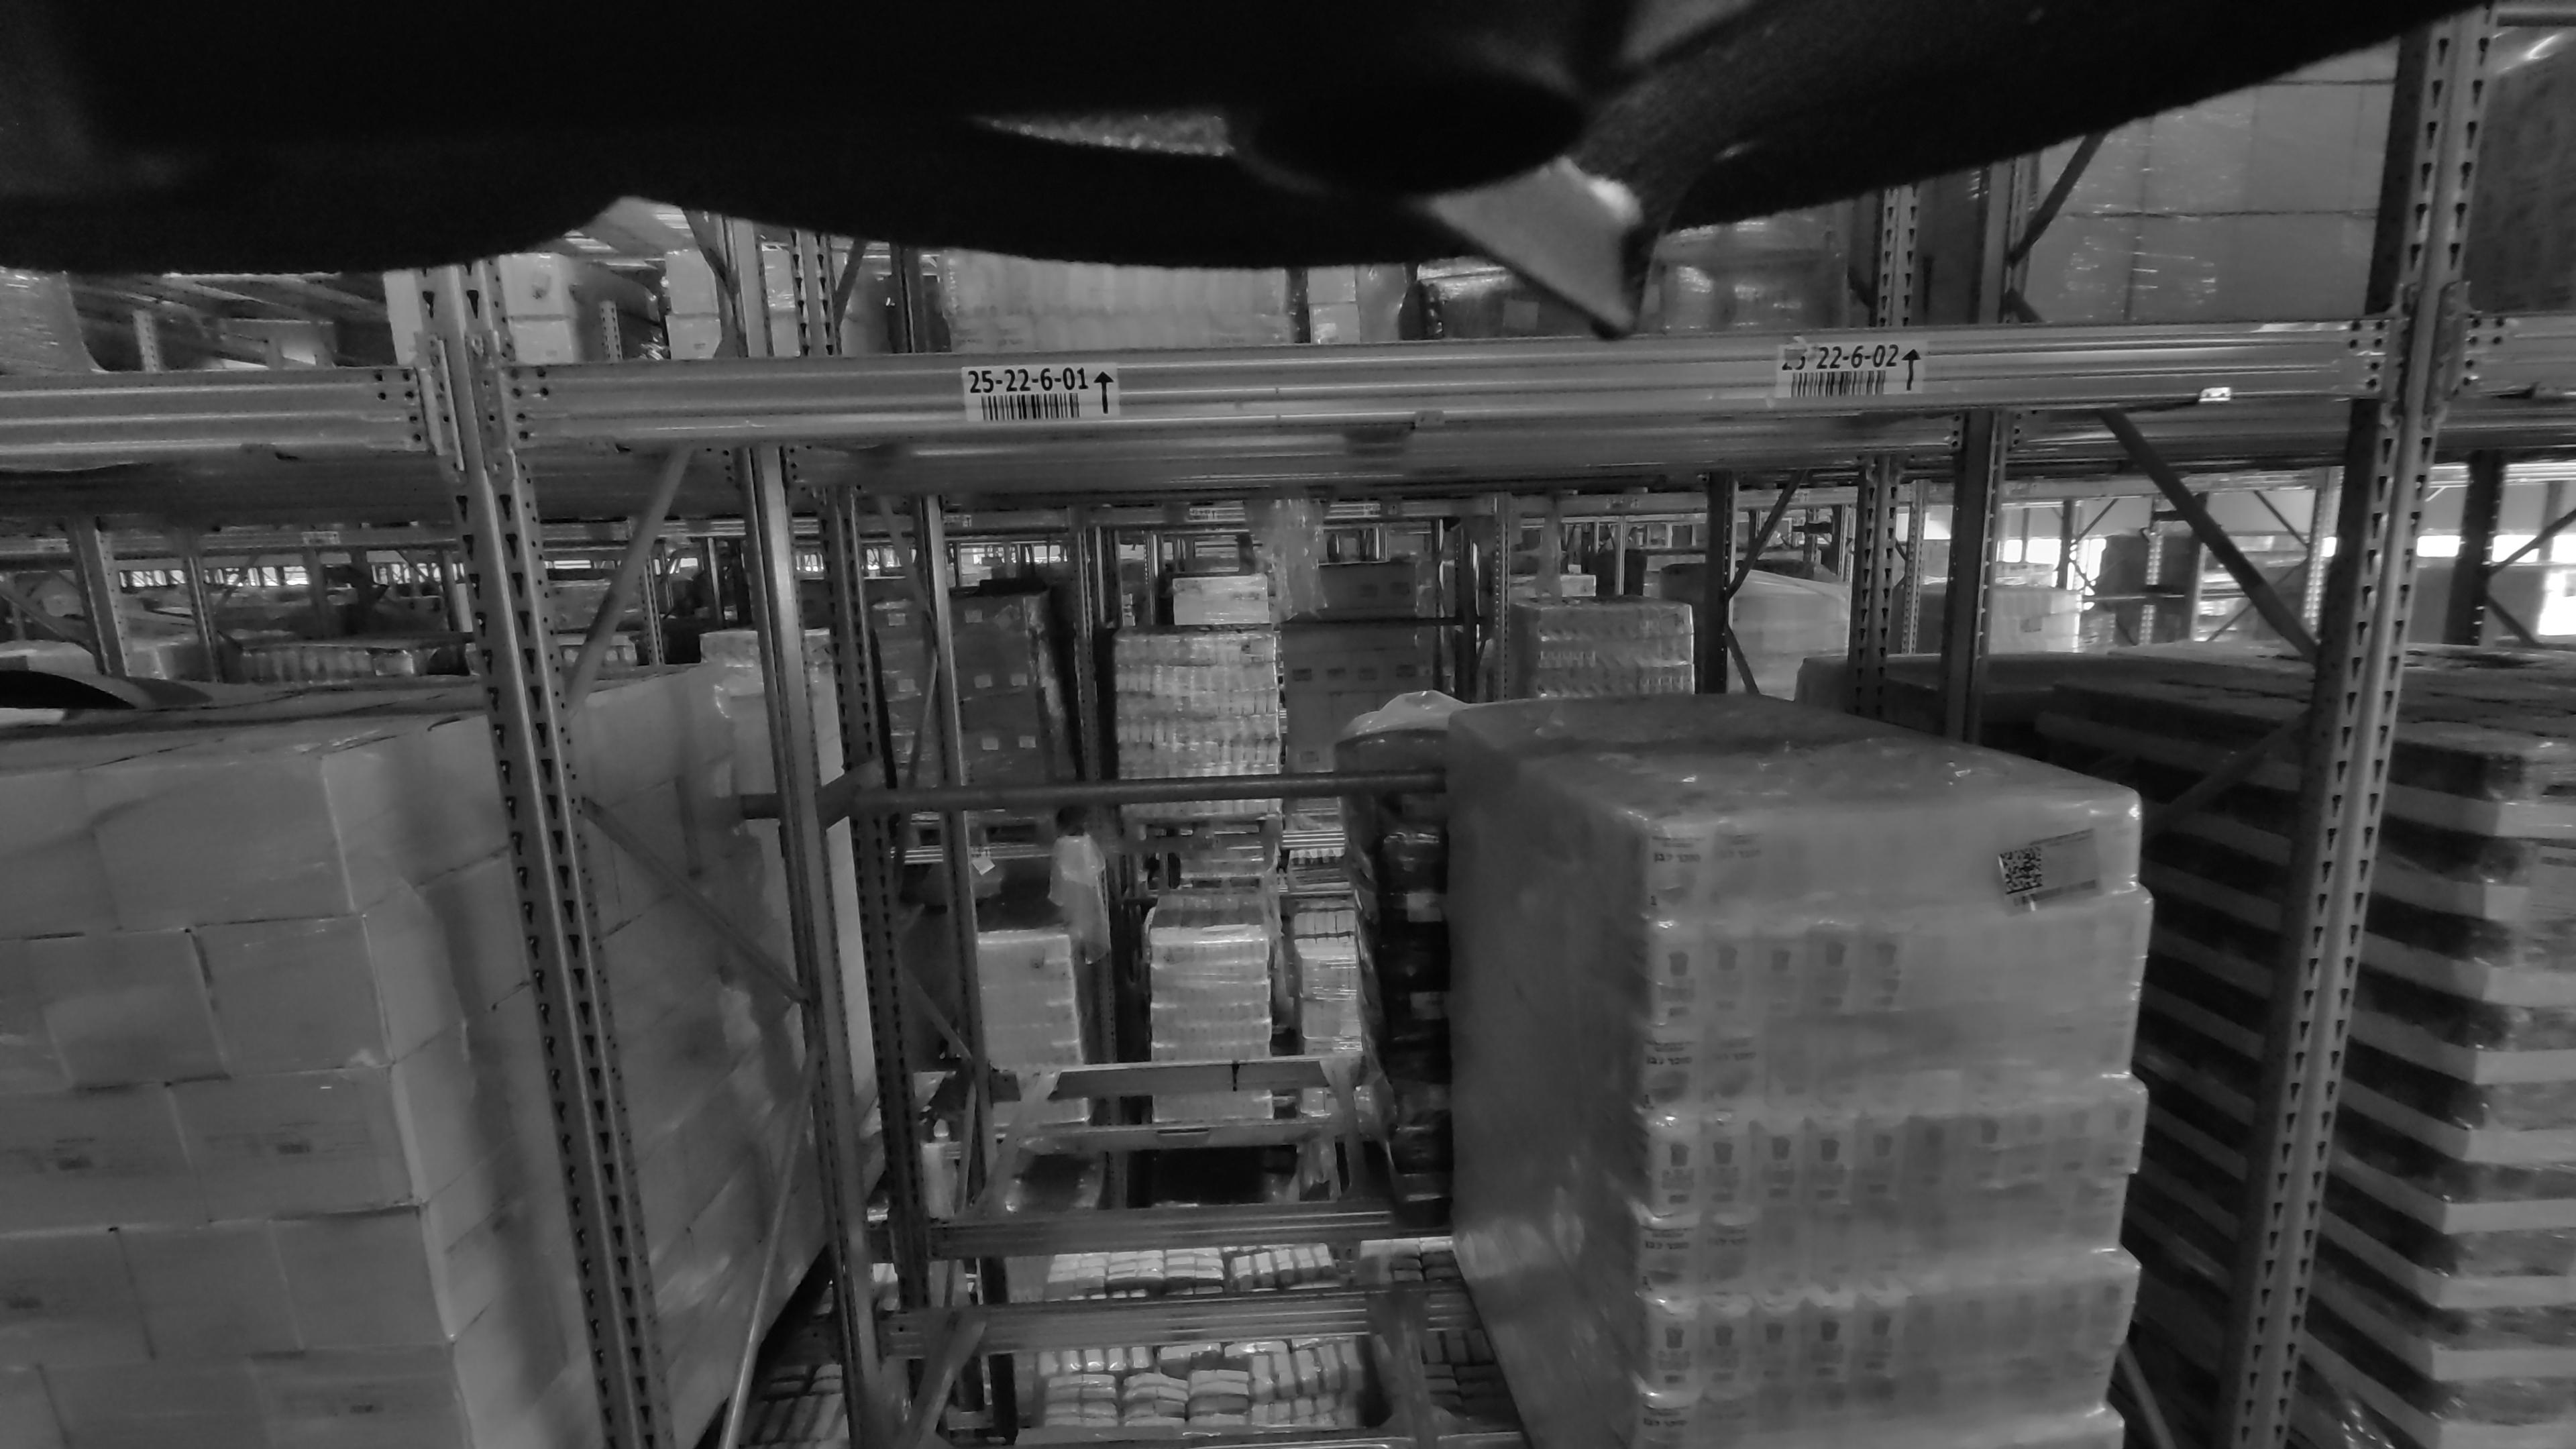empty-shelf: (872, 449, 1421, 1449), (913, 435, 1384, 1207), (1525, 163, 2288, 324), (566, 212, 1375, 340)
